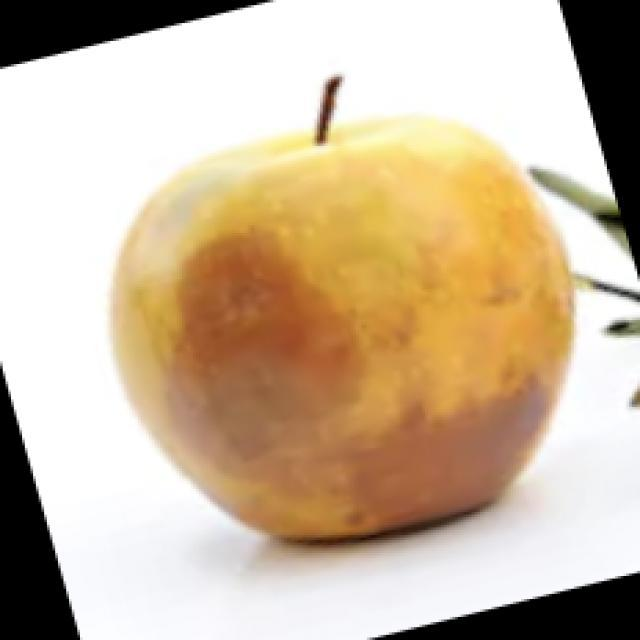Rotten: (103, 118, 577, 537)
